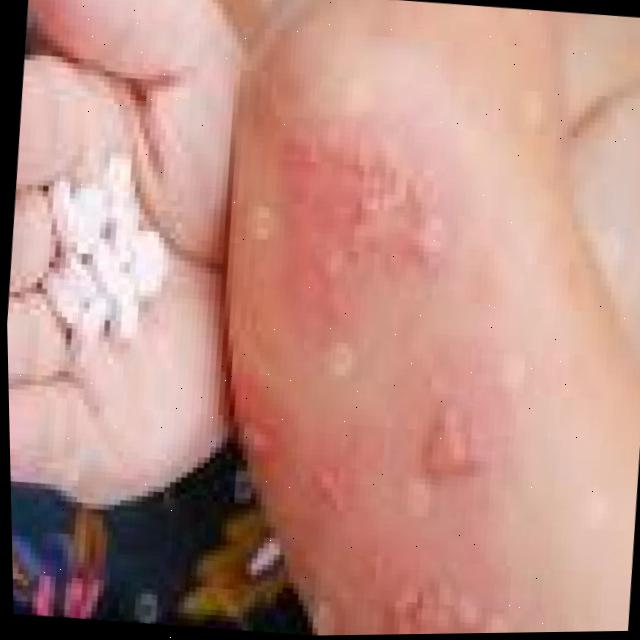Shingles: (268, 95, 458, 340), (227, 417, 352, 521), (408, 387, 501, 495), (380, 576, 518, 635)
